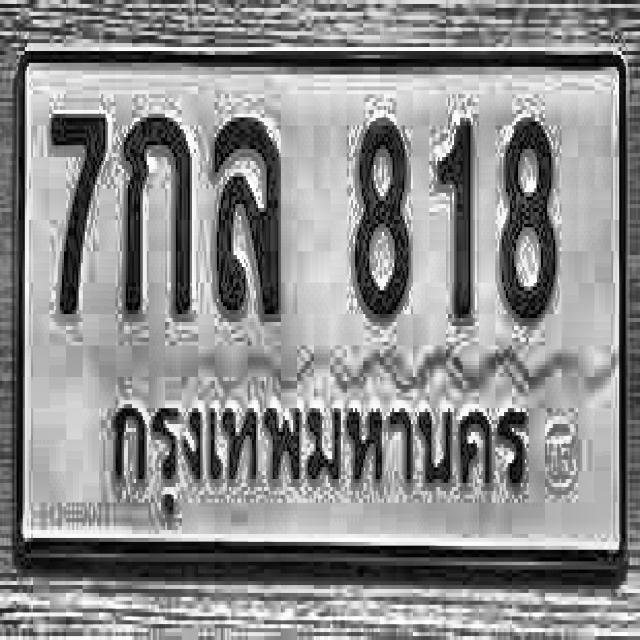license-plate: (18, 41, 627, 574)
